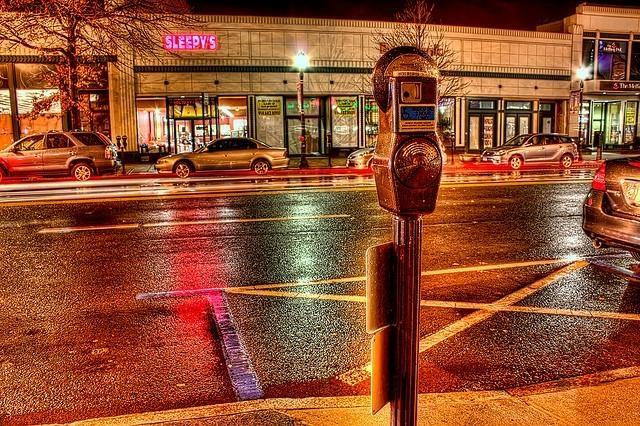car: (0, 130, 122, 182), (153, 136, 290, 180), (581, 154, 640, 250), (478, 133, 580, 170), (346, 141, 376, 169)
